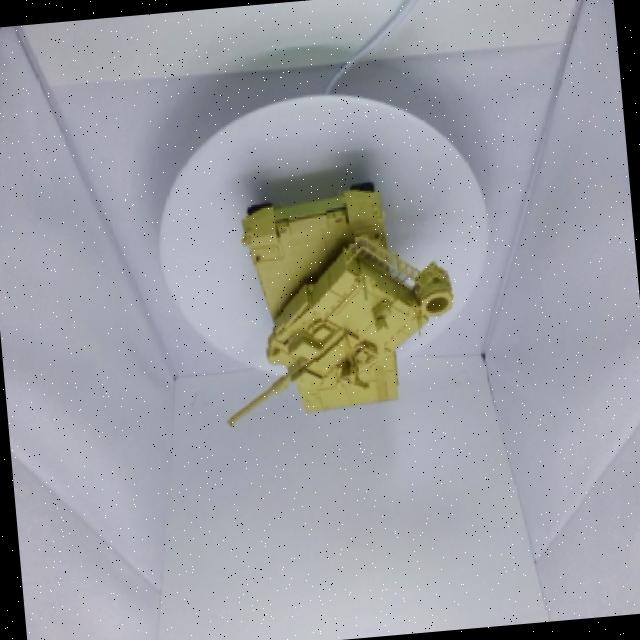korea tank: (138, 152, 492, 474)
